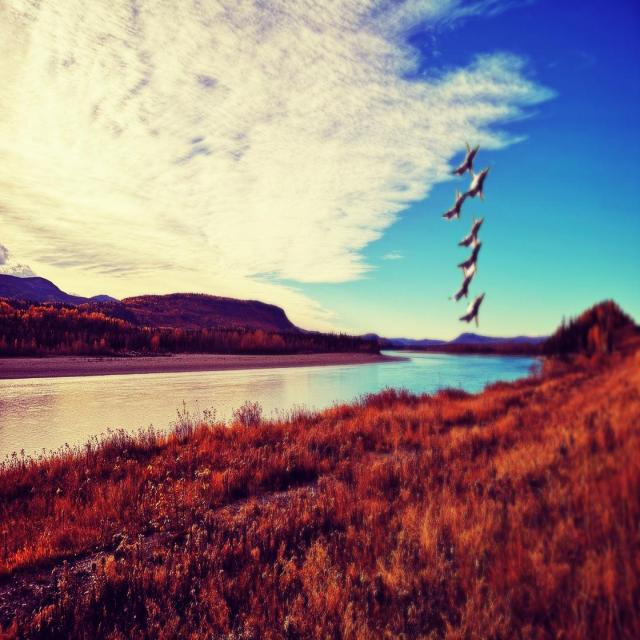airplane: (452, 141, 479, 177), (458, 292, 486, 326), (444, 186, 468, 223), (449, 270, 475, 304), (465, 168, 490, 202), (462, 216, 483, 246), (460, 243, 483, 268)
